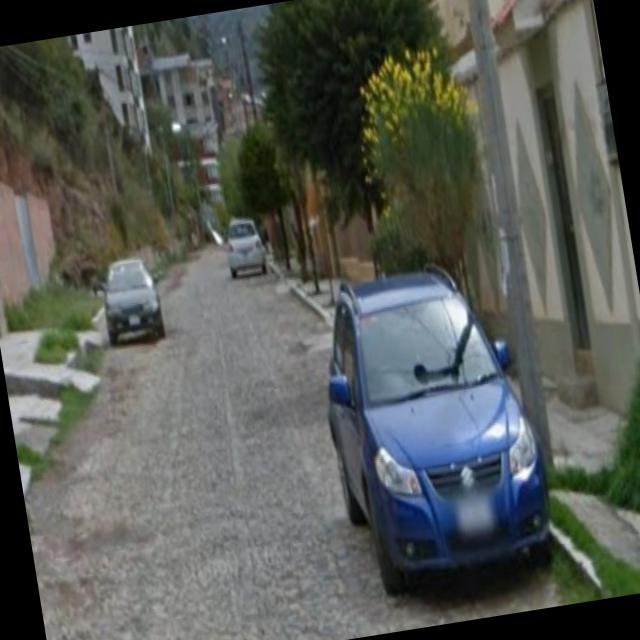car: (306, 262, 566, 610), (93, 248, 168, 352), (220, 208, 268, 288)
